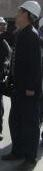boots: (1, 152, 23, 159), (0, 110, 7, 117)
hard-hat: (0, 13, 9, 25)
